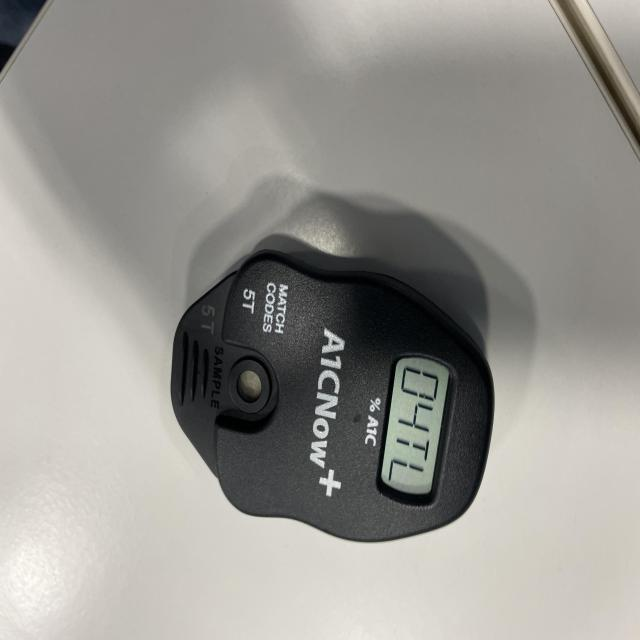hba1c: (169, 232, 495, 547)
